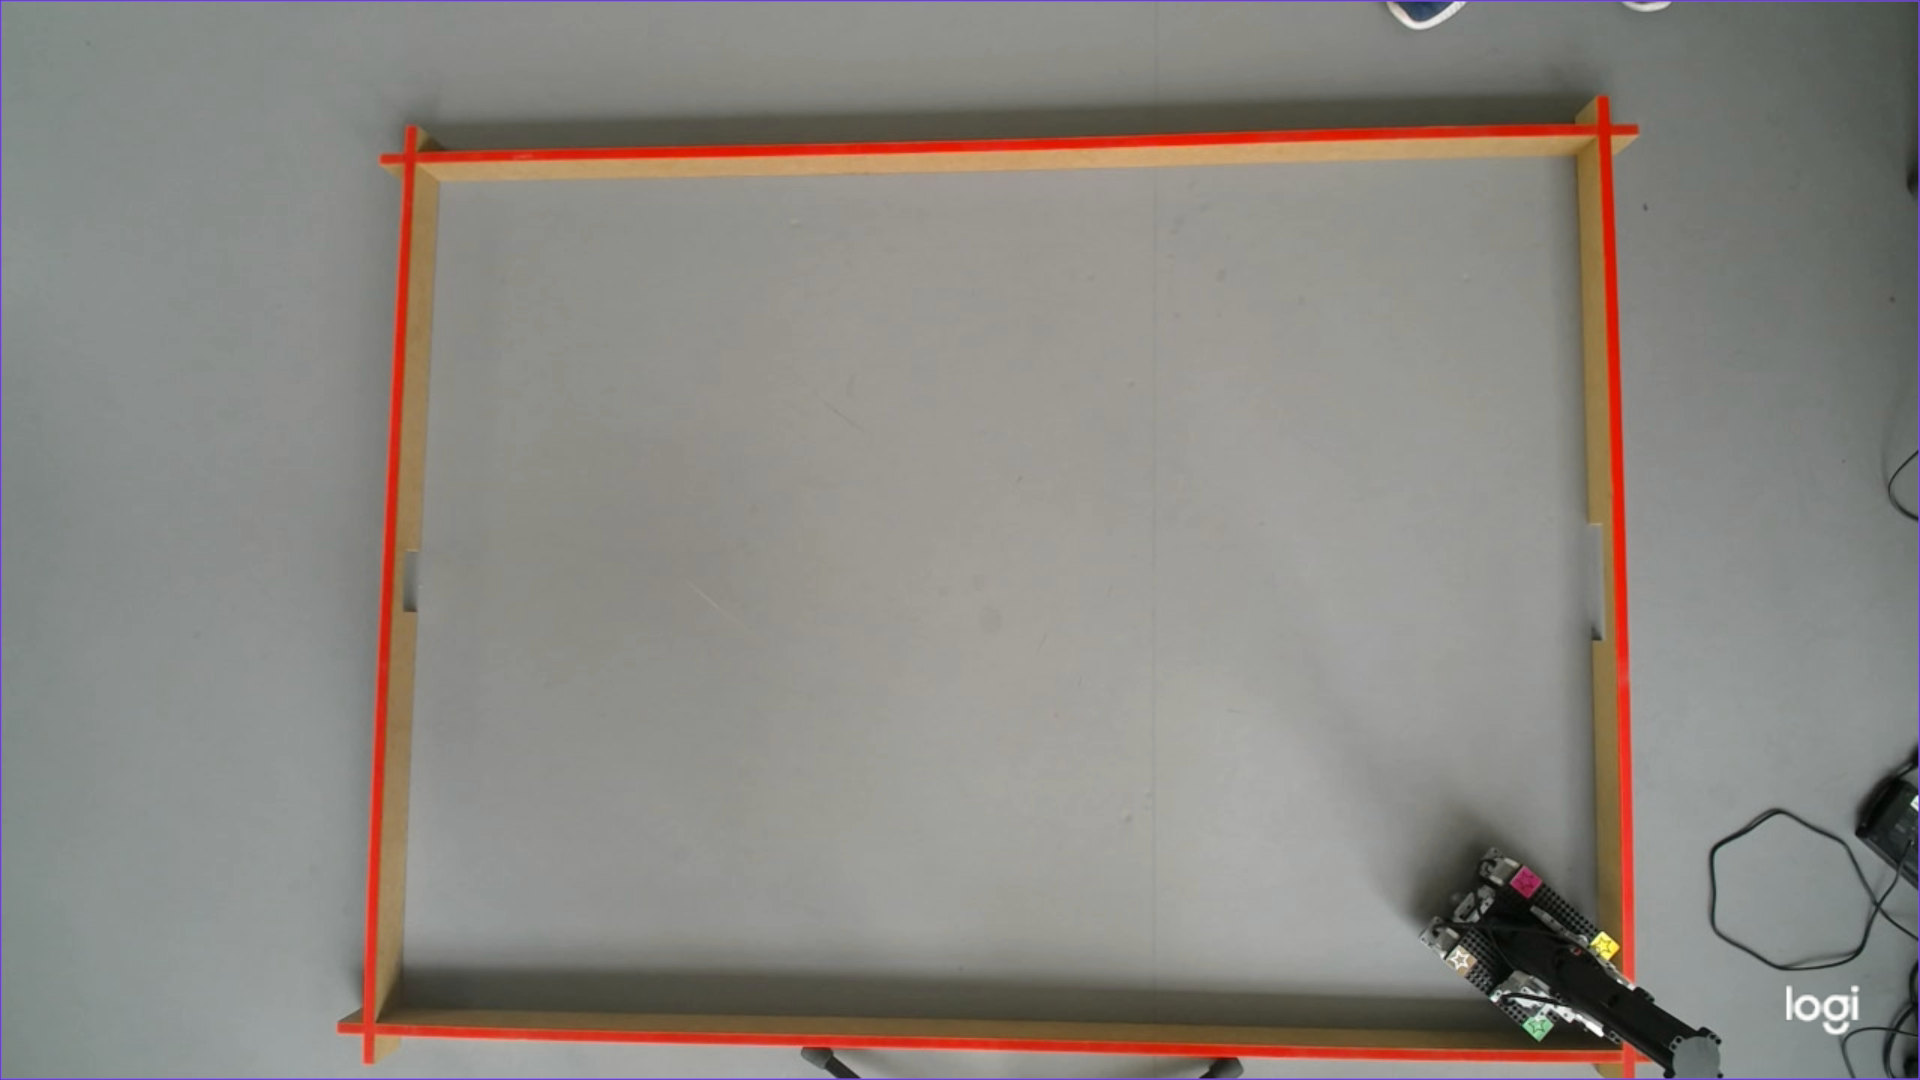corner_brown: (1447, 944, 1476, 975)
corner_green: (1520, 1011, 1553, 1040)
corner_pink: (1510, 865, 1542, 897)
corner_yellow: (1588, 931, 1621, 960)
playfield: (340, 131, 1640, 1073)
playfield_corner: (396, 136, 433, 175), (1589, 109, 1626, 149), (1613, 1035, 1650, 1075), (351, 1005, 388, 1044)
